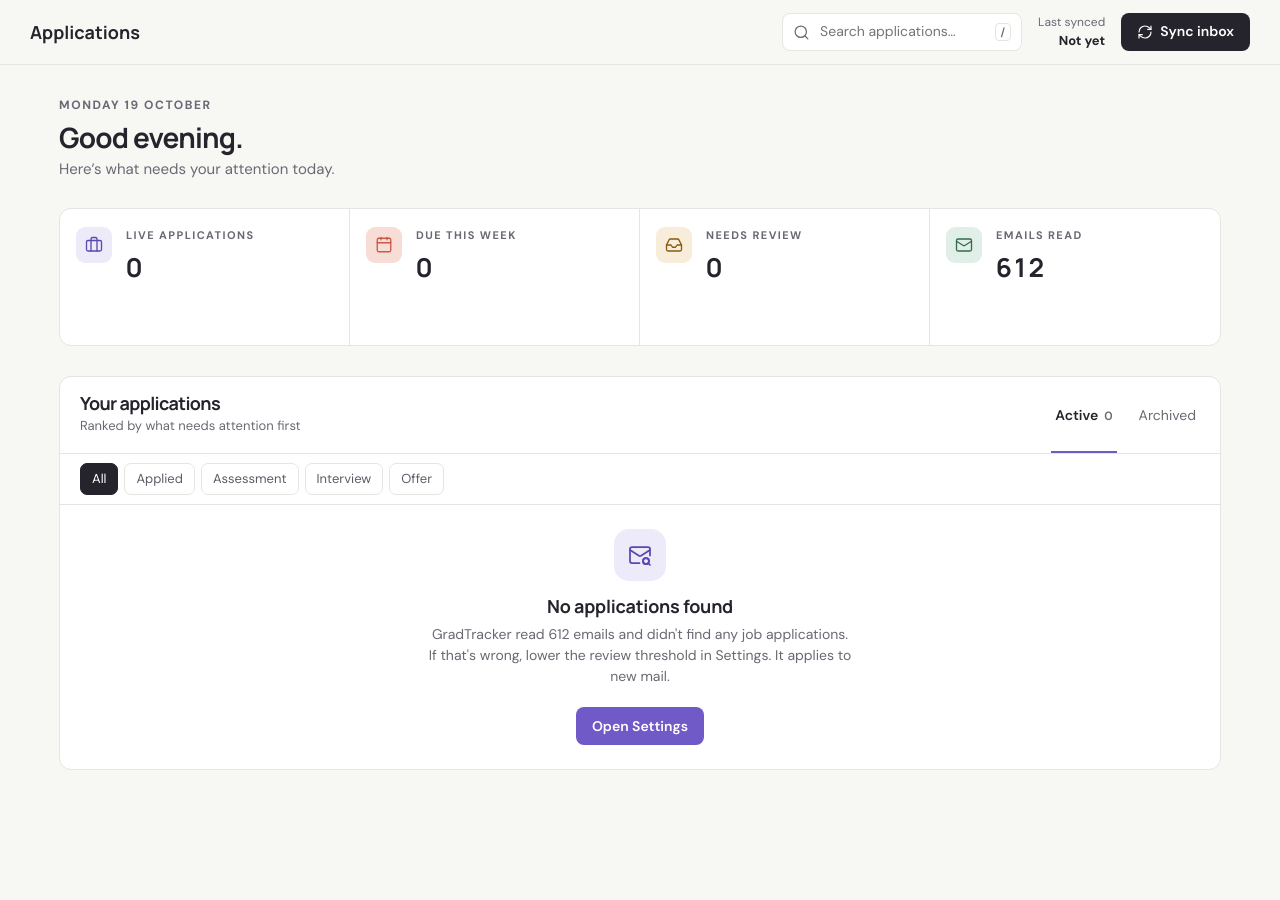
Test case: Refresh (D36) › reads new mail, says what happened, and reloads the dashboard and the sidebar count
Step 1. Click the button "Sync inbox" → click(1186, 32), box [1121, 13, 1250, 51]
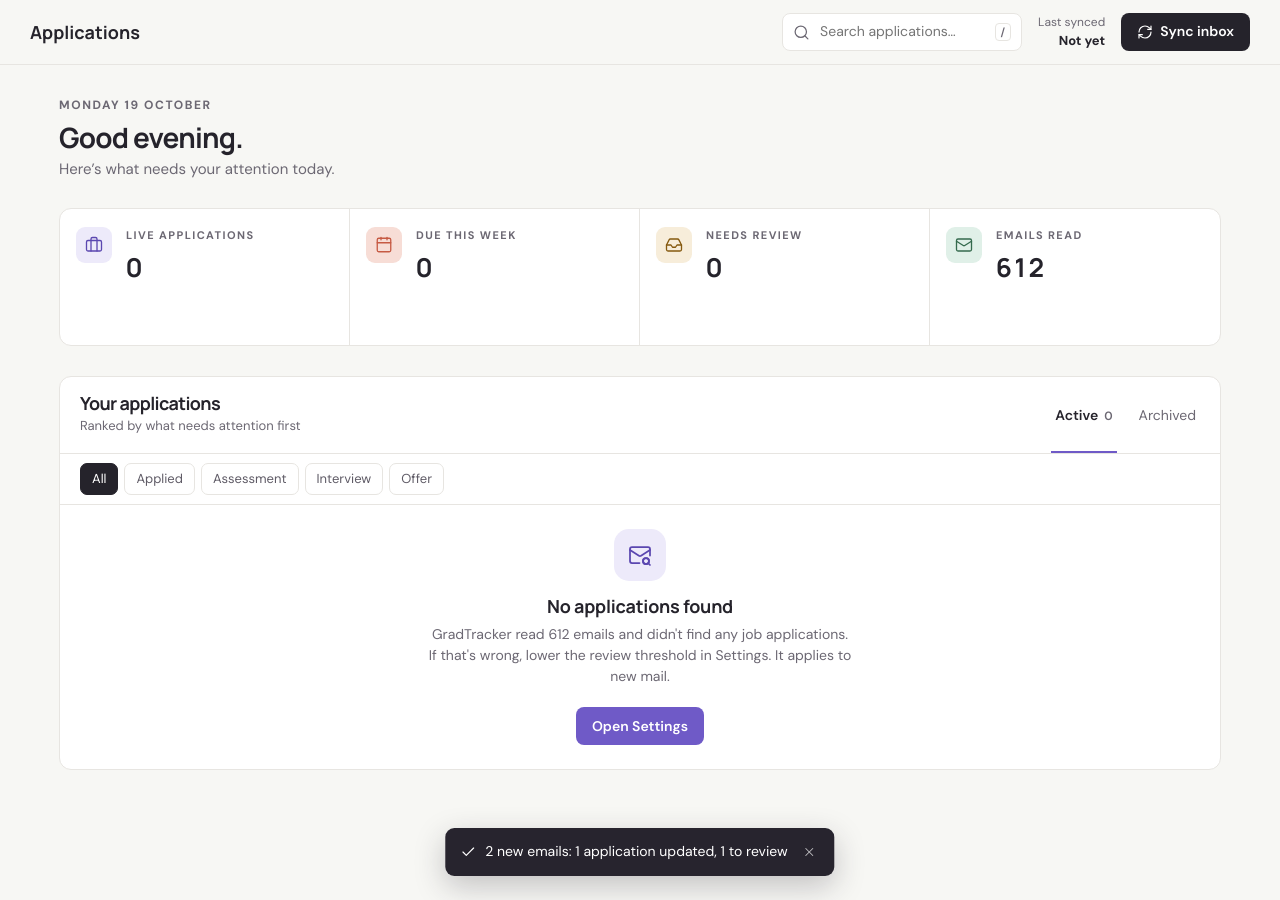
Now the text "2 new emails: 1 application updated, 1 to review" is shown, box [485, 842, 788, 862]
